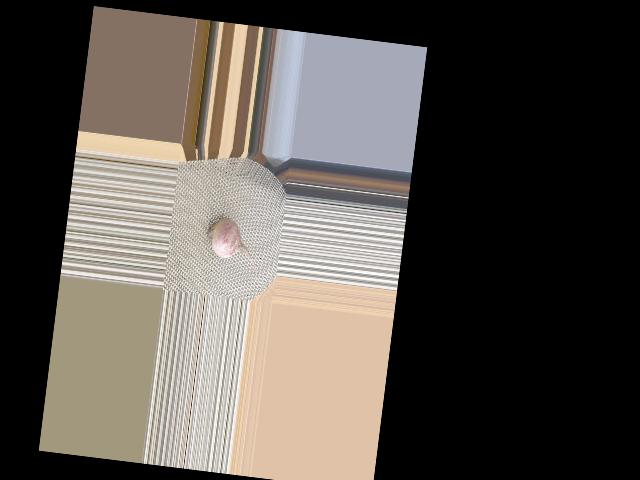beet: (201, 215, 264, 279)
